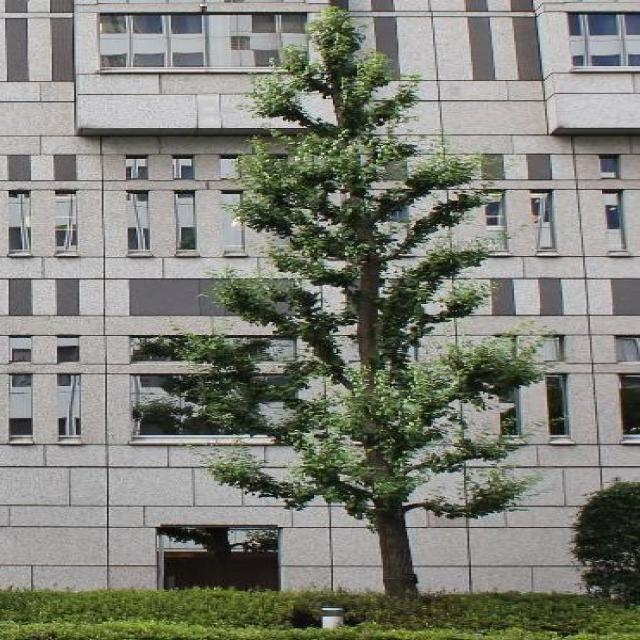ginkgo: (129, 7, 572, 594)
